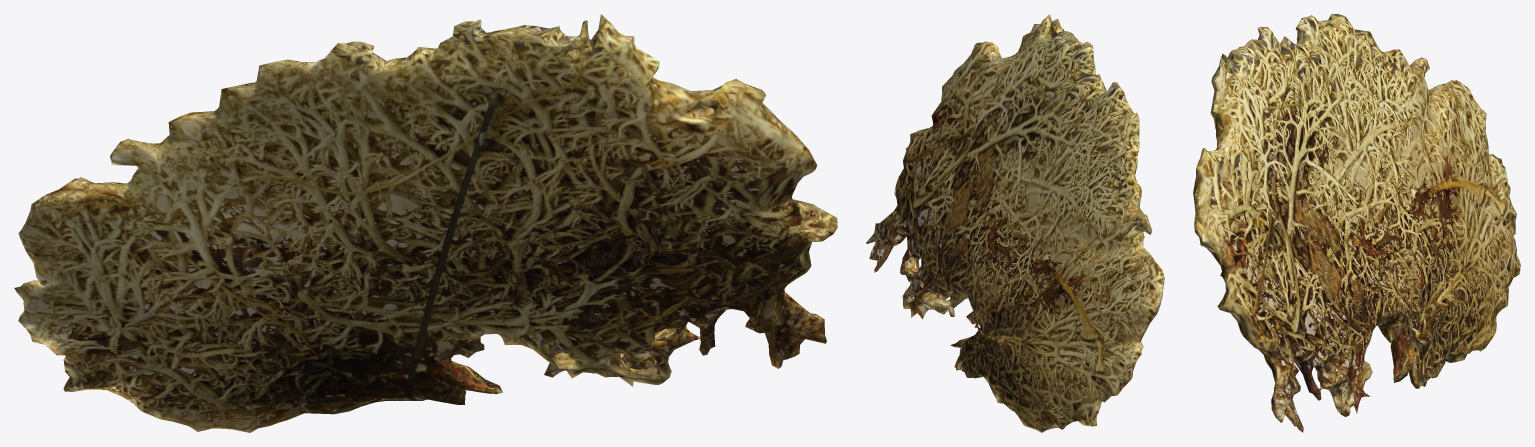
Rendered from Cladonia.dae.
3 renders of one model, left to right at view 1: azimuth 30°, elevation 25°; view 2: azimuth 150°, elevation 25°; view 3: azimuth 270°, elevation 25°, orthographic. The views are drawn at different scales.
Visible parts, largest first — view 1: Cladonia; view 2: Cladonia; view 3: Cladonia.
Boxes of the visible parts, x1,y1,x2,y2 form: Cladonia: [14, 14, 837, 432]; Cladonia: [866, 14, 1164, 432]; Cladonia: [1193, 14, 1520, 432].
Size of the model in its own units: 92.98 by 71.57 by 61.66.
